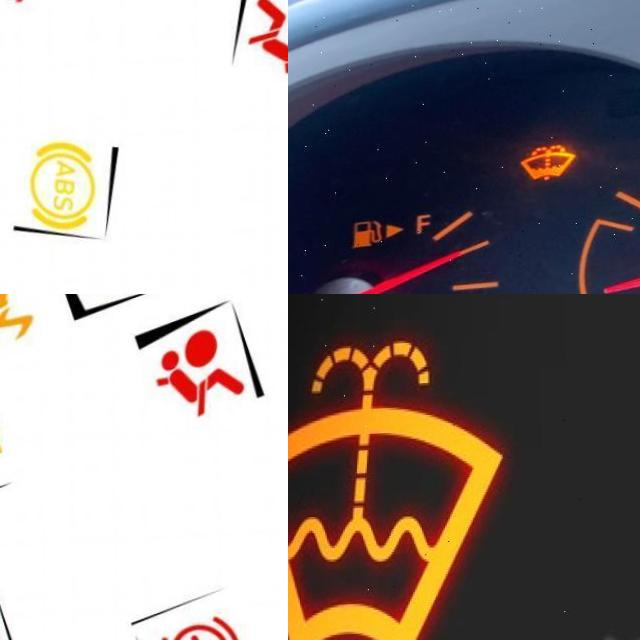Washer Fluid: (288, 341, 503, 640), (519, 145, 576, 186)
